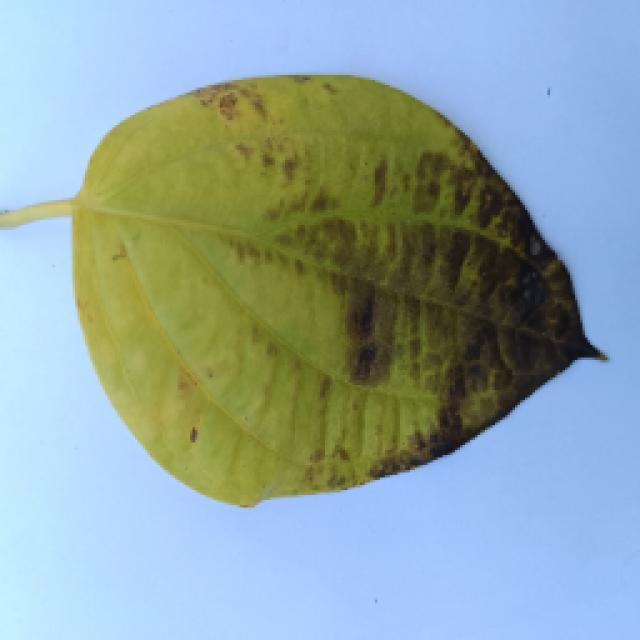slow-decline: (2, 75, 600, 497)
